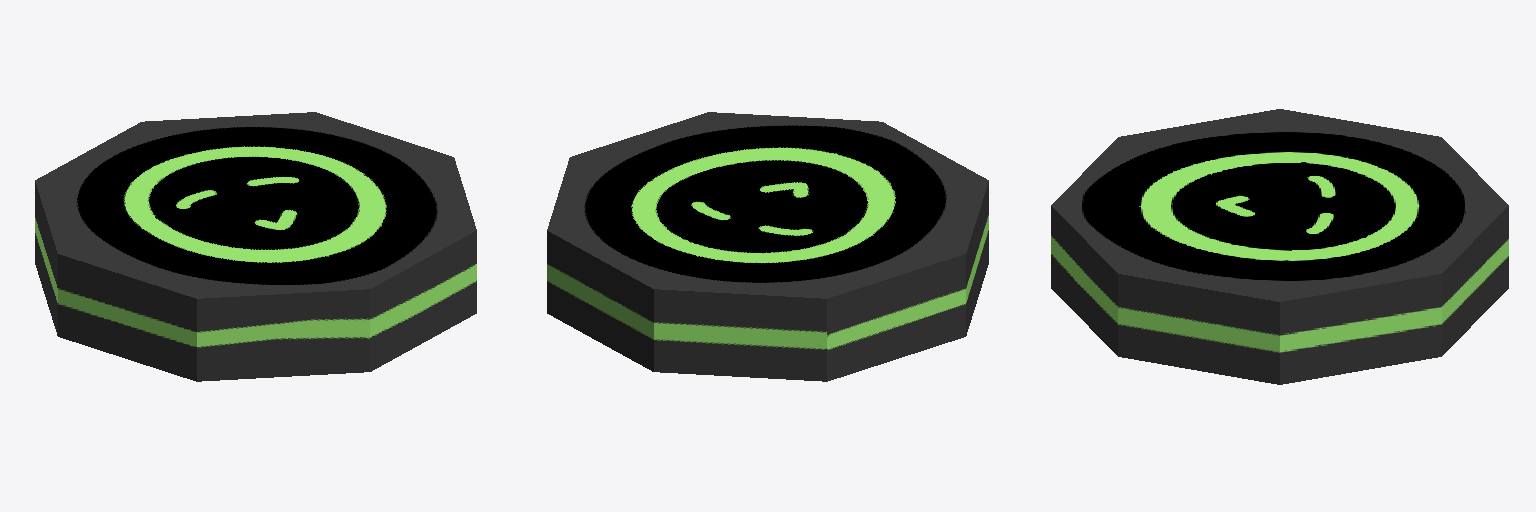
The picture shows the model from 3 angles: view 1: azimuth 30°, elevation 25°; view 2: azimuth 150°, elevation 25°; view 3: azimuth 270°, elevation 25°; orthographic projection.
Parts seen in each view (by area): view 1: 円柱; view 2: 円柱; view 3: 円柱.
Boxes of the visible parts, <box> form: 円柱: <box>35,112,476,381</box>; 円柱: <box>547,112,988,381</box>; 円柱: <box>1051,109,1508,384</box>.
Bounding box in the file's own units: 1 × 0.2438 × 1.
Materials: 1 (1 with a texture image).